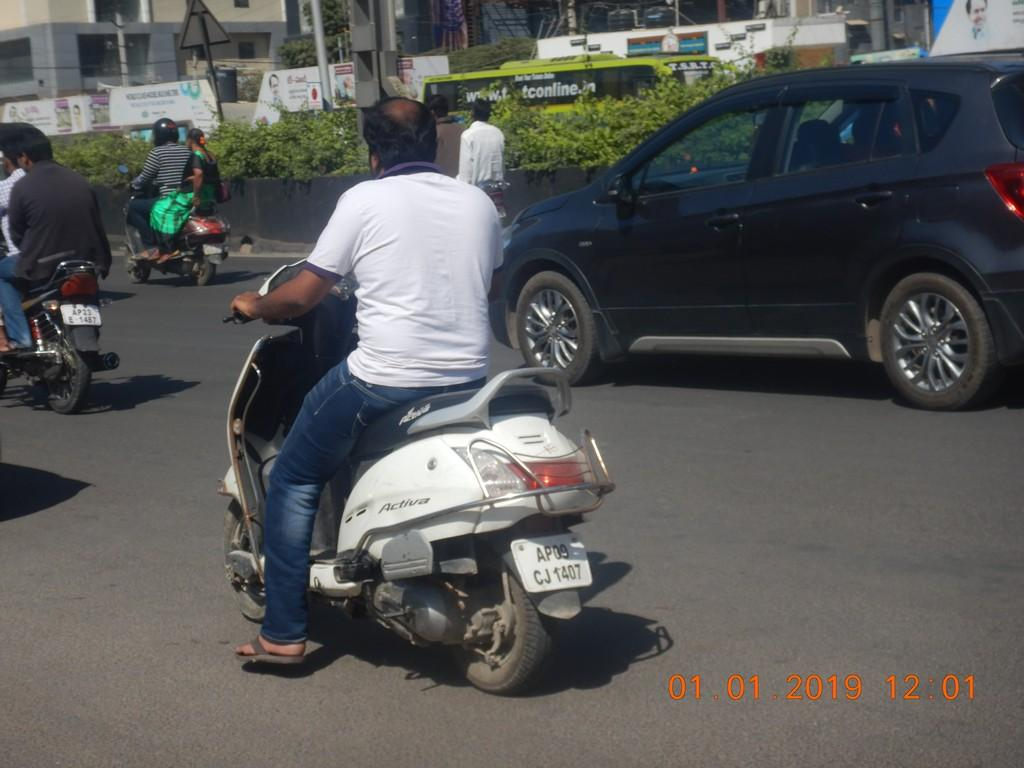plate: (518, 539, 593, 591)
